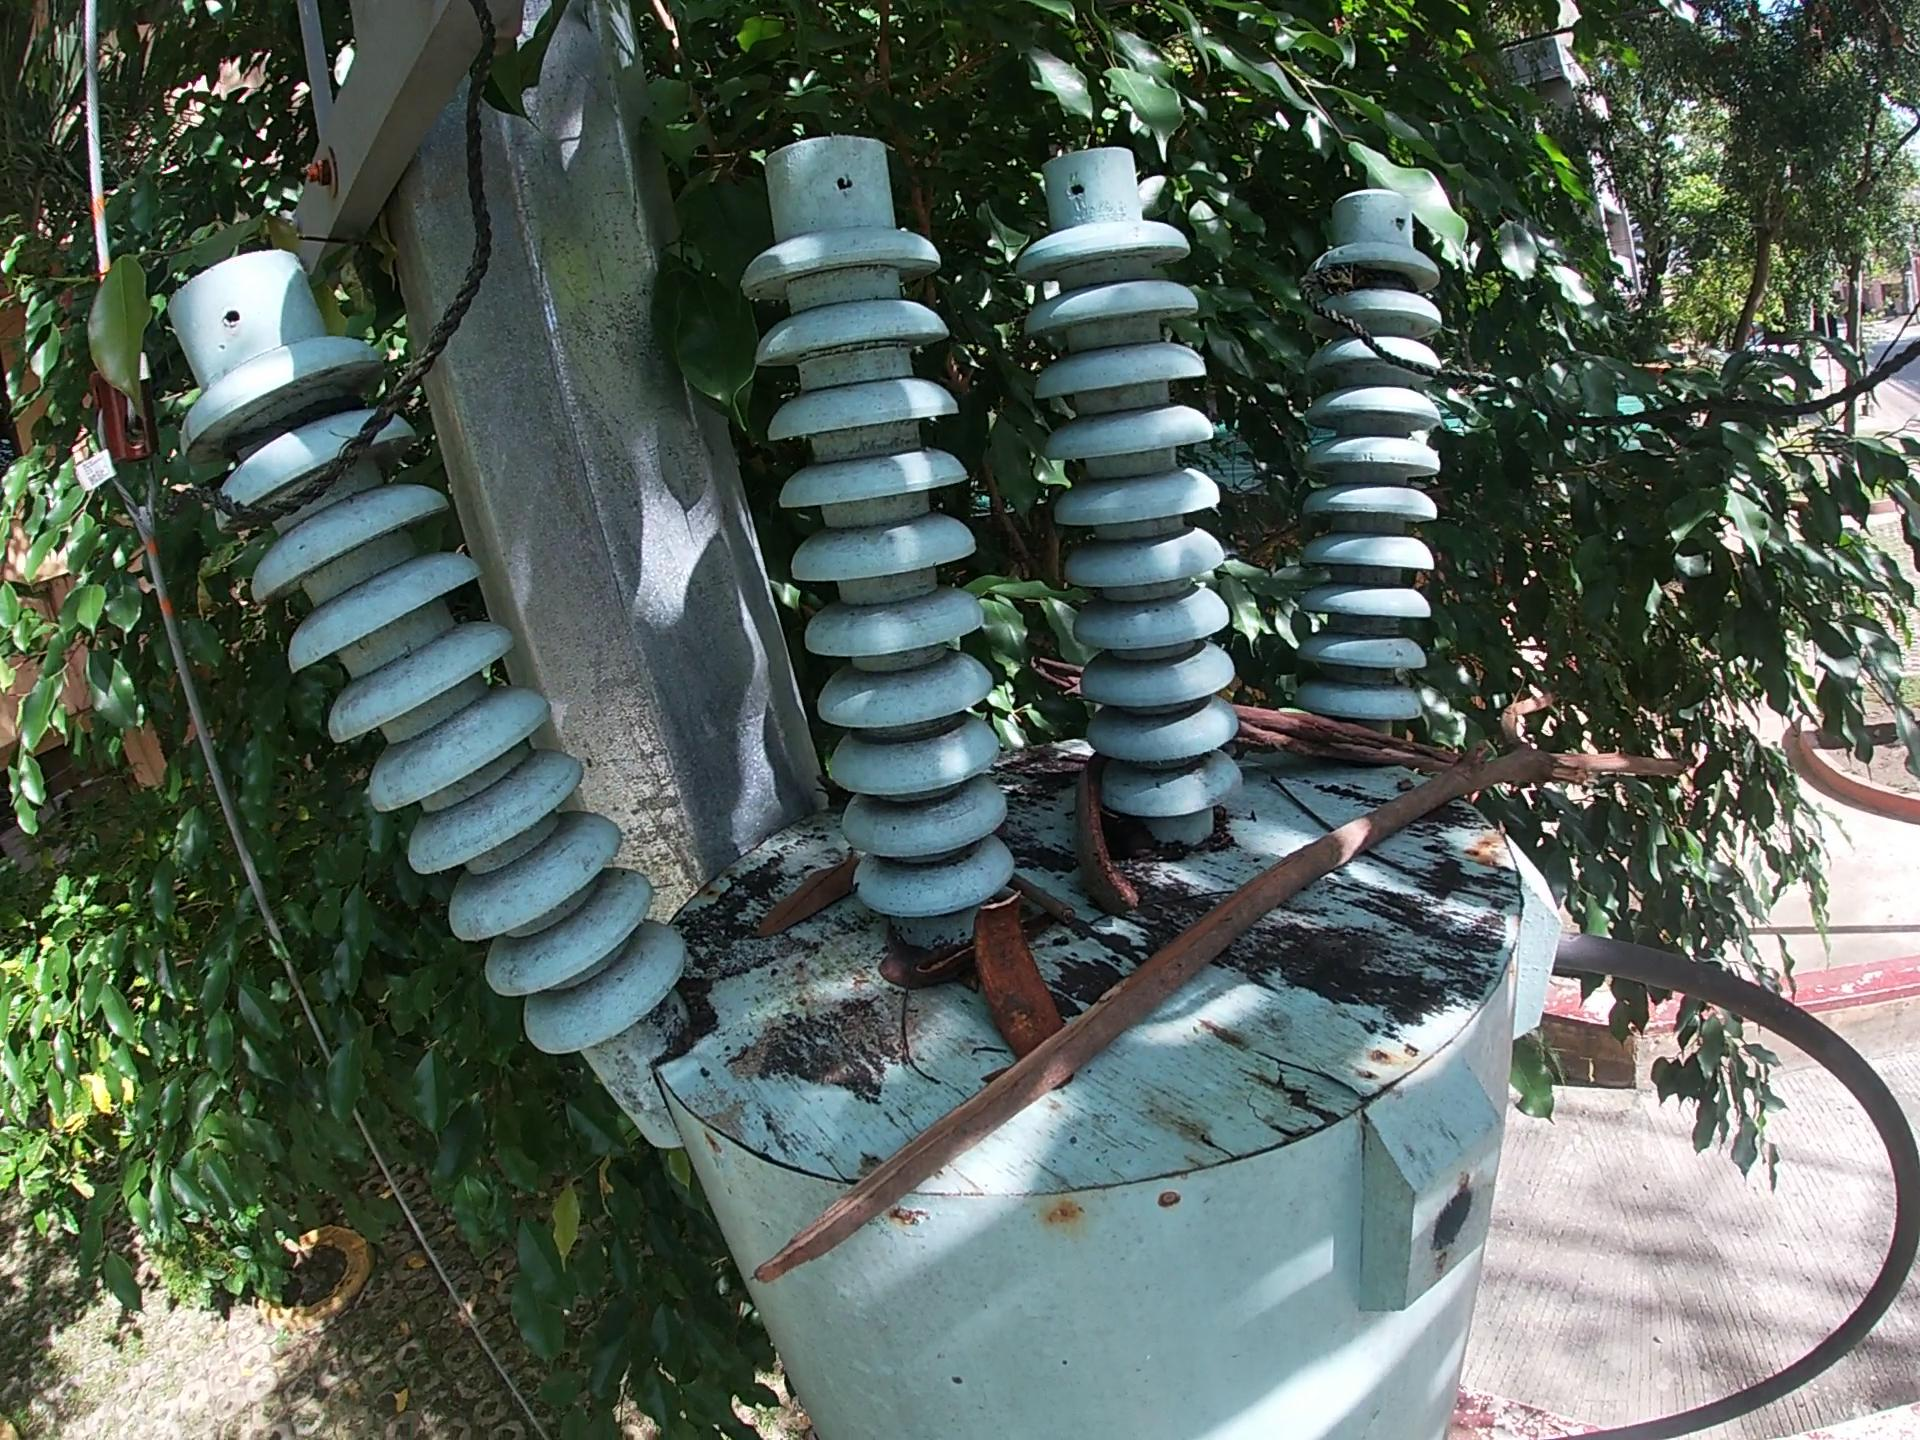leaf: (727, 856, 857, 933), (874, 951, 924, 988)
mahogany fruit: (965, 889, 1066, 1059), (1063, 740, 1150, 929)
tree branch: (729, 667, 1713, 1296), (1226, 706, 1444, 773), (1368, 850, 1521, 914), (881, 992, 954, 1092), (1095, 886, 1219, 936), (1265, 771, 1333, 839), (998, 864, 1064, 924), (1020, 650, 1076, 706)
